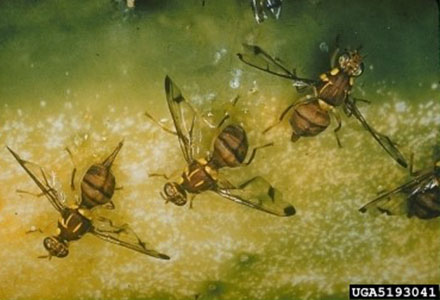Fruit fly: (258, 41, 385, 172), (158, 86, 276, 226), (22, 153, 129, 248)
